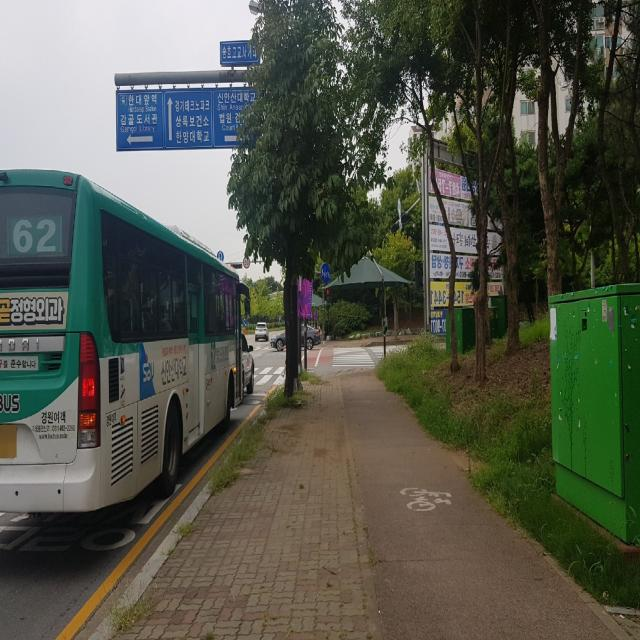횡단보도: (332, 345, 406, 367)
